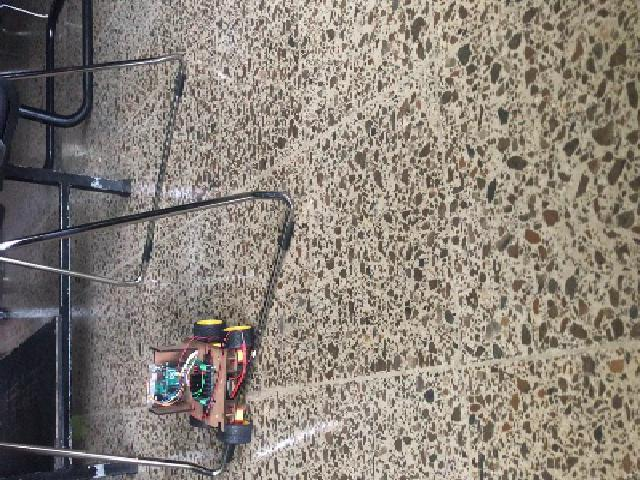Robot: (144, 316, 258, 443)
